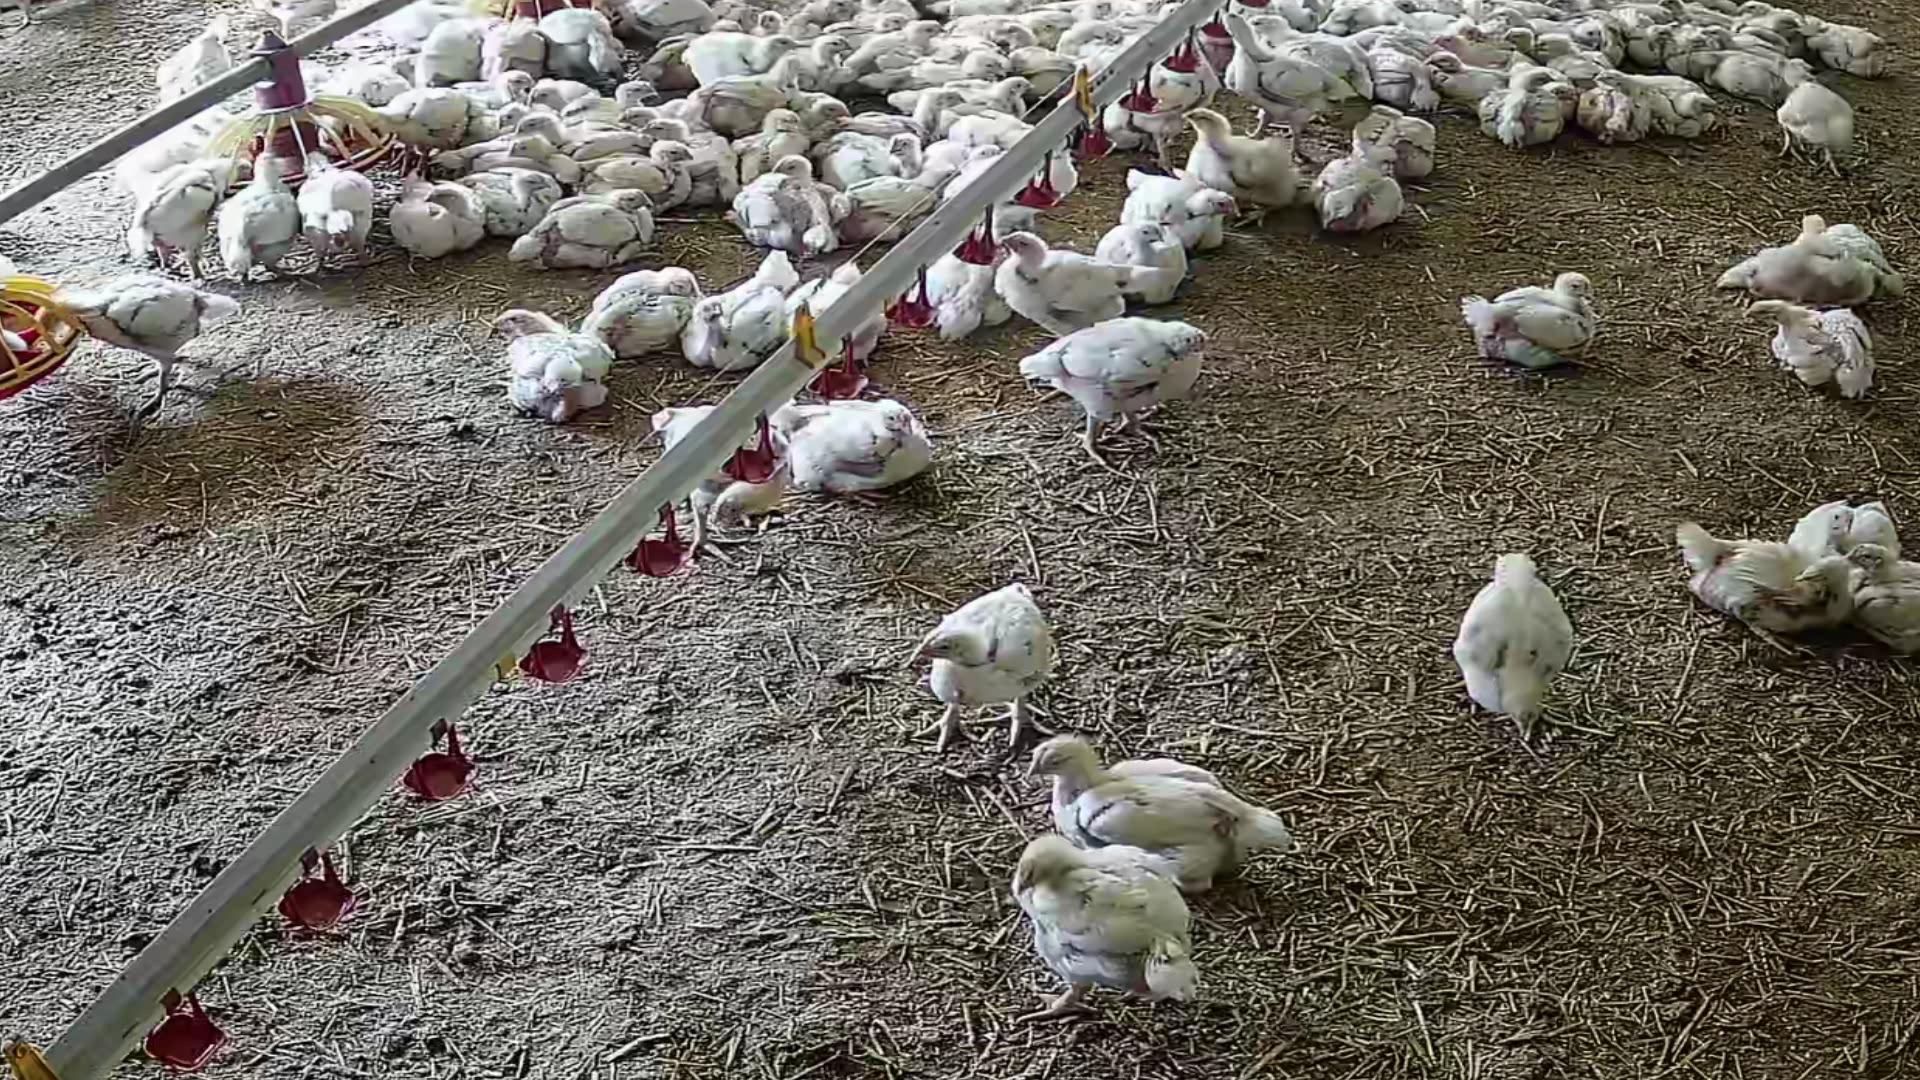poussin: (973, 669, 1283, 897), (998, 806, 1217, 1034), (1419, 513, 1607, 770), (1011, 295, 1226, 469), (32, 265, 231, 426), (1440, 243, 1634, 400), (898, 575, 1059, 744), (1676, 508, 1840, 651), (1216, 9, 1358, 149), (787, 392, 951, 506), (1755, 294, 1884, 422), (480, 309, 608, 433), (729, 145, 861, 261), (1182, 108, 1309, 223), (997, 228, 1131, 331), (1308, 141, 1425, 247), (319, 84, 480, 153), (688, 272, 803, 361), (520, 185, 661, 255), (1842, 524, 1920, 650), (1097, 203, 1201, 297), (597, 268, 702, 360), (301, 157, 384, 272), (1250, 12, 1367, 92), (1770, 82, 1879, 167), (232, 156, 299, 293), (1712, 225, 1834, 301), (390, 169, 480, 270), (164, 146, 245, 257), (678, 53, 804, 120), (1792, 476, 1903, 551), (583, 136, 700, 204), (1114, 164, 1236, 229), (1787, 200, 1891, 277), (1600, 70, 1716, 138), (535, 9, 632, 84), (678, 25, 808, 76), (464, 164, 551, 233), (848, 171, 955, 228), (517, 113, 644, 158), (1361, 103, 1436, 175), (1804, 15, 1896, 73), (1494, 70, 1565, 140), (856, 92, 969, 132), (856, 17, 945, 66), (443, 67, 537, 112), (481, 15, 543, 79), (1371, 47, 1436, 108), (990, 25, 1076, 70), (1429, 54, 1503, 103), (419, 21, 484, 76), (960, 74, 1043, 116), (510, 141, 578, 183), (810, 22, 852, 87), (575, 83, 657, 113), (884, 133, 935, 171), (1704, 24, 1771, 51), (1592, 20, 1638, 57), (808, 94, 849, 132), (748, 12, 796, 44), (640, 113, 690, 142), (1755, 8, 1807, 34), (1535, 34, 1584, 62), (533, 70, 563, 112), (1439, 37, 1494, 59), (1485, 5, 1534, 30), (1650, 25, 1692, 53), (500, 103, 534, 135), (1499, 26, 1535, 49), (876, 11, 909, 33), (620, 102, 654, 123), (1741, 0, 1778, 15), (975, 144, 1000, 157)
